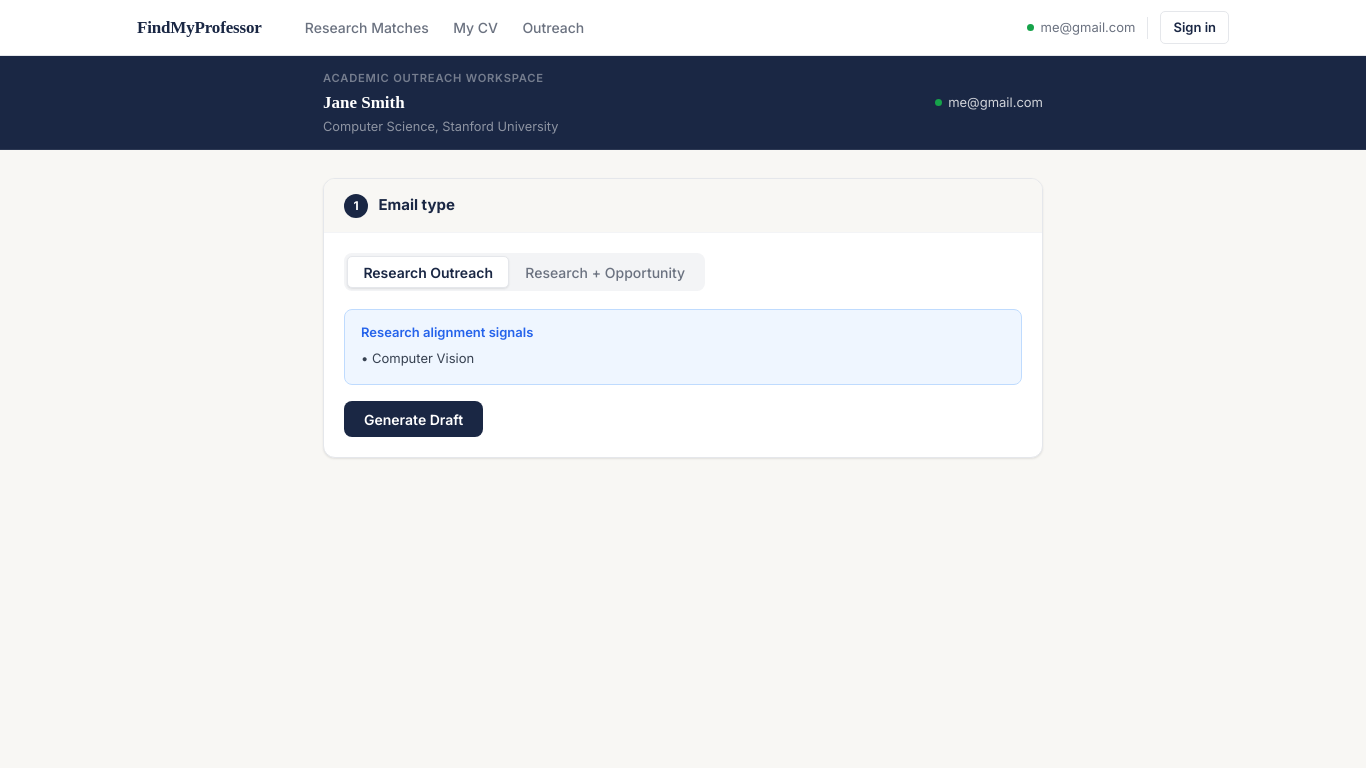
Test: Email compose page › Preview Email shows the email preview
The image size is (1366, 768).
Expected: the text "Jane Smith" is shown, 323,93 -> 405,112
Click the button "Generate Draft".
click(414, 419)  # box 344,401 -> 483,437
(page scrolled)
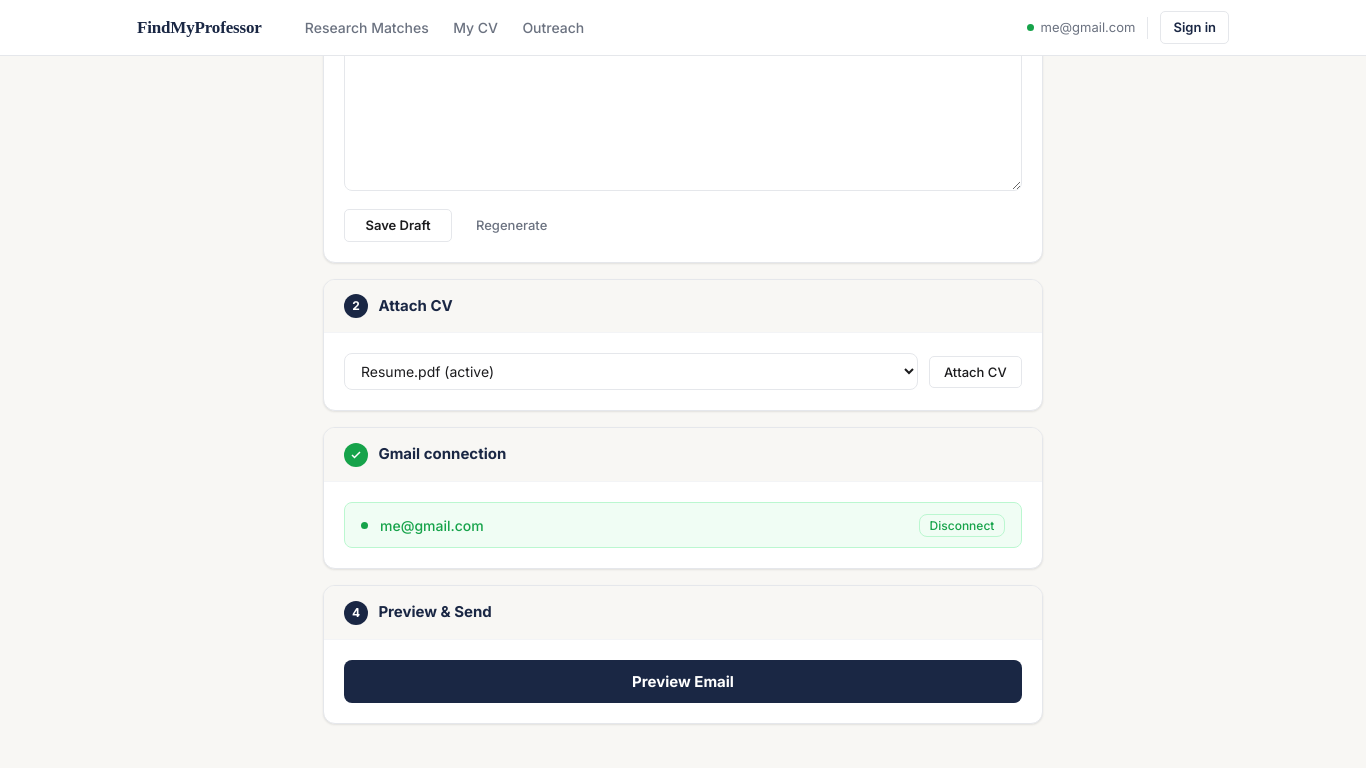
Click the button "Preview Email".
click(683, 682)  # box 344,660 -> 1022,703
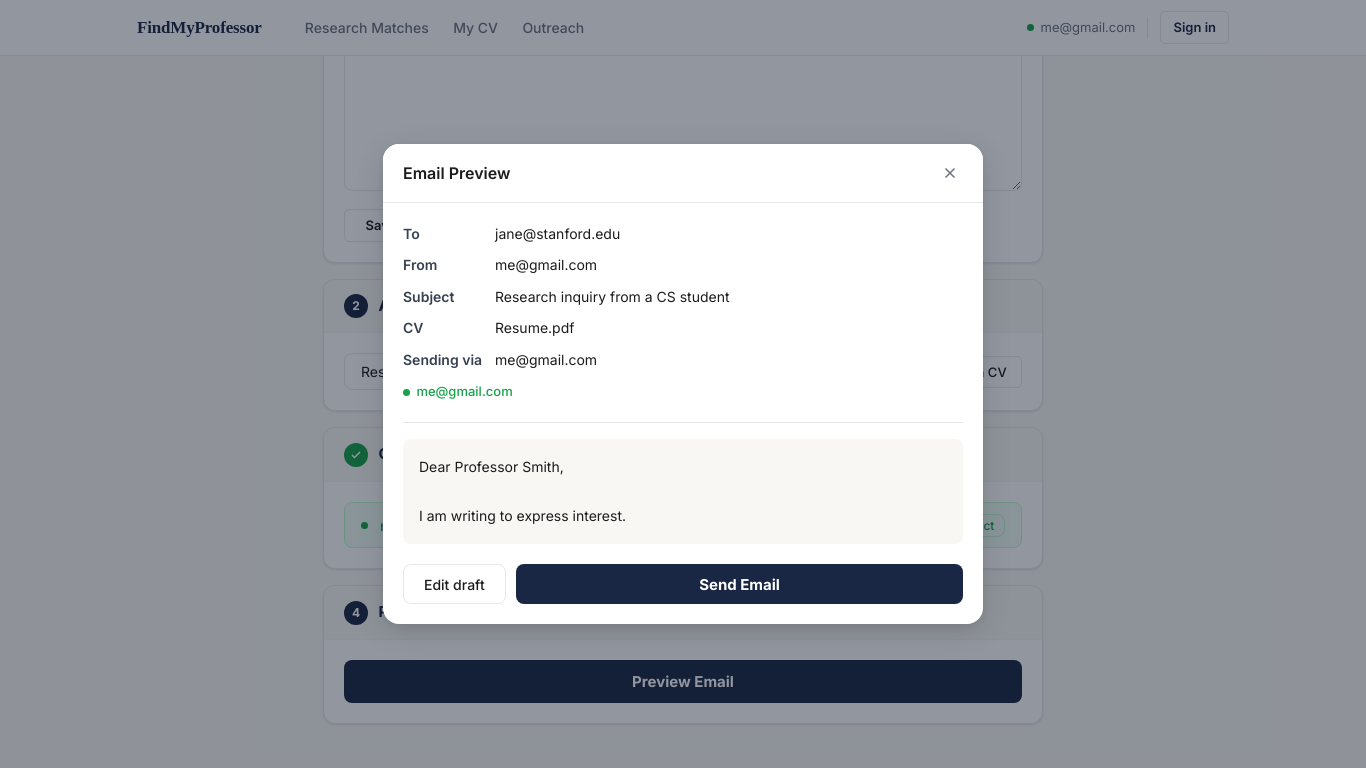
Expected: the text "me@gmail.com" next to "Sign in" is shown, 1041,19 -> 1135,35
Now the heading "Email Preview" is shown, box 403,163 -> 510,183
Now the text "jane@stanford.edu" is shown, box 495,223 -> 620,244
